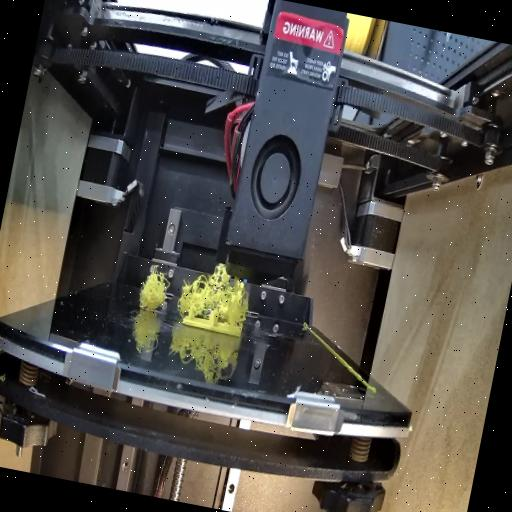spaghetti: (176, 261, 252, 323), (139, 266, 170, 310)
